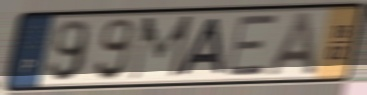9: (46, 18, 92, 84), (94, 16, 137, 83)
A: (264, 10, 319, 79), (174, 17, 226, 78)
E: (224, 13, 279, 79)
M: (126, 13, 195, 83)
